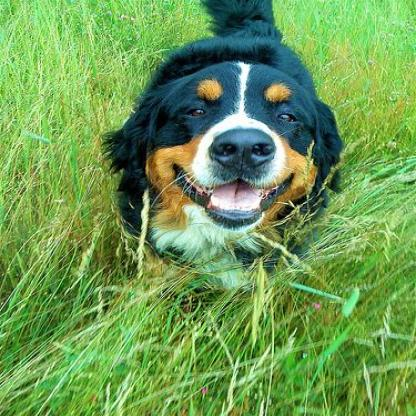Bernese_mountain_dog: (99, 0, 338, 286)
